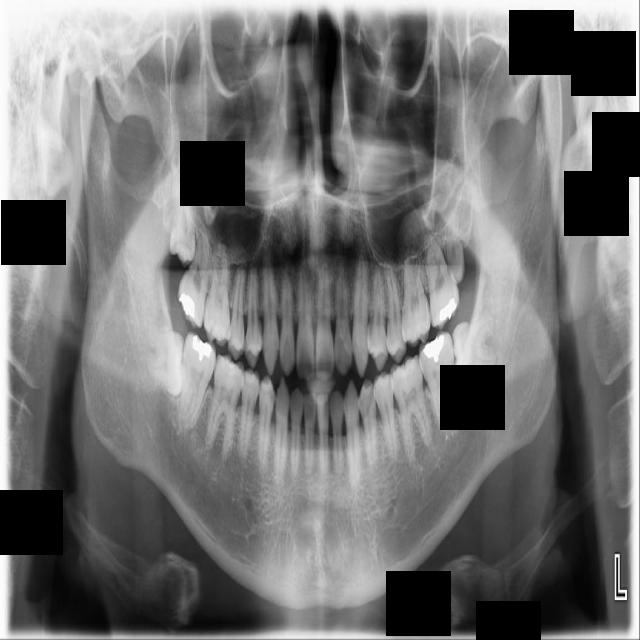3M ESPE Implant: (169, 179, 199, 263)
52: (420, 330, 446, 364), (189, 332, 215, 361), (177, 291, 200, 322), (436, 296, 460, 325)
73: (577, 595, 584, 606)
BioHorizons Implant: (421, 231, 463, 328)
BioLife Implant: (444, 210, 465, 285)
Biomet 3i Implant: (148, 333, 184, 396)
Blue Sky Bio Implant: (177, 331, 218, 432)
Caries: (172, 230, 217, 330)
Implant: (416, 332, 463, 433)
Keystone Dental Implant: (451, 315, 498, 392)
